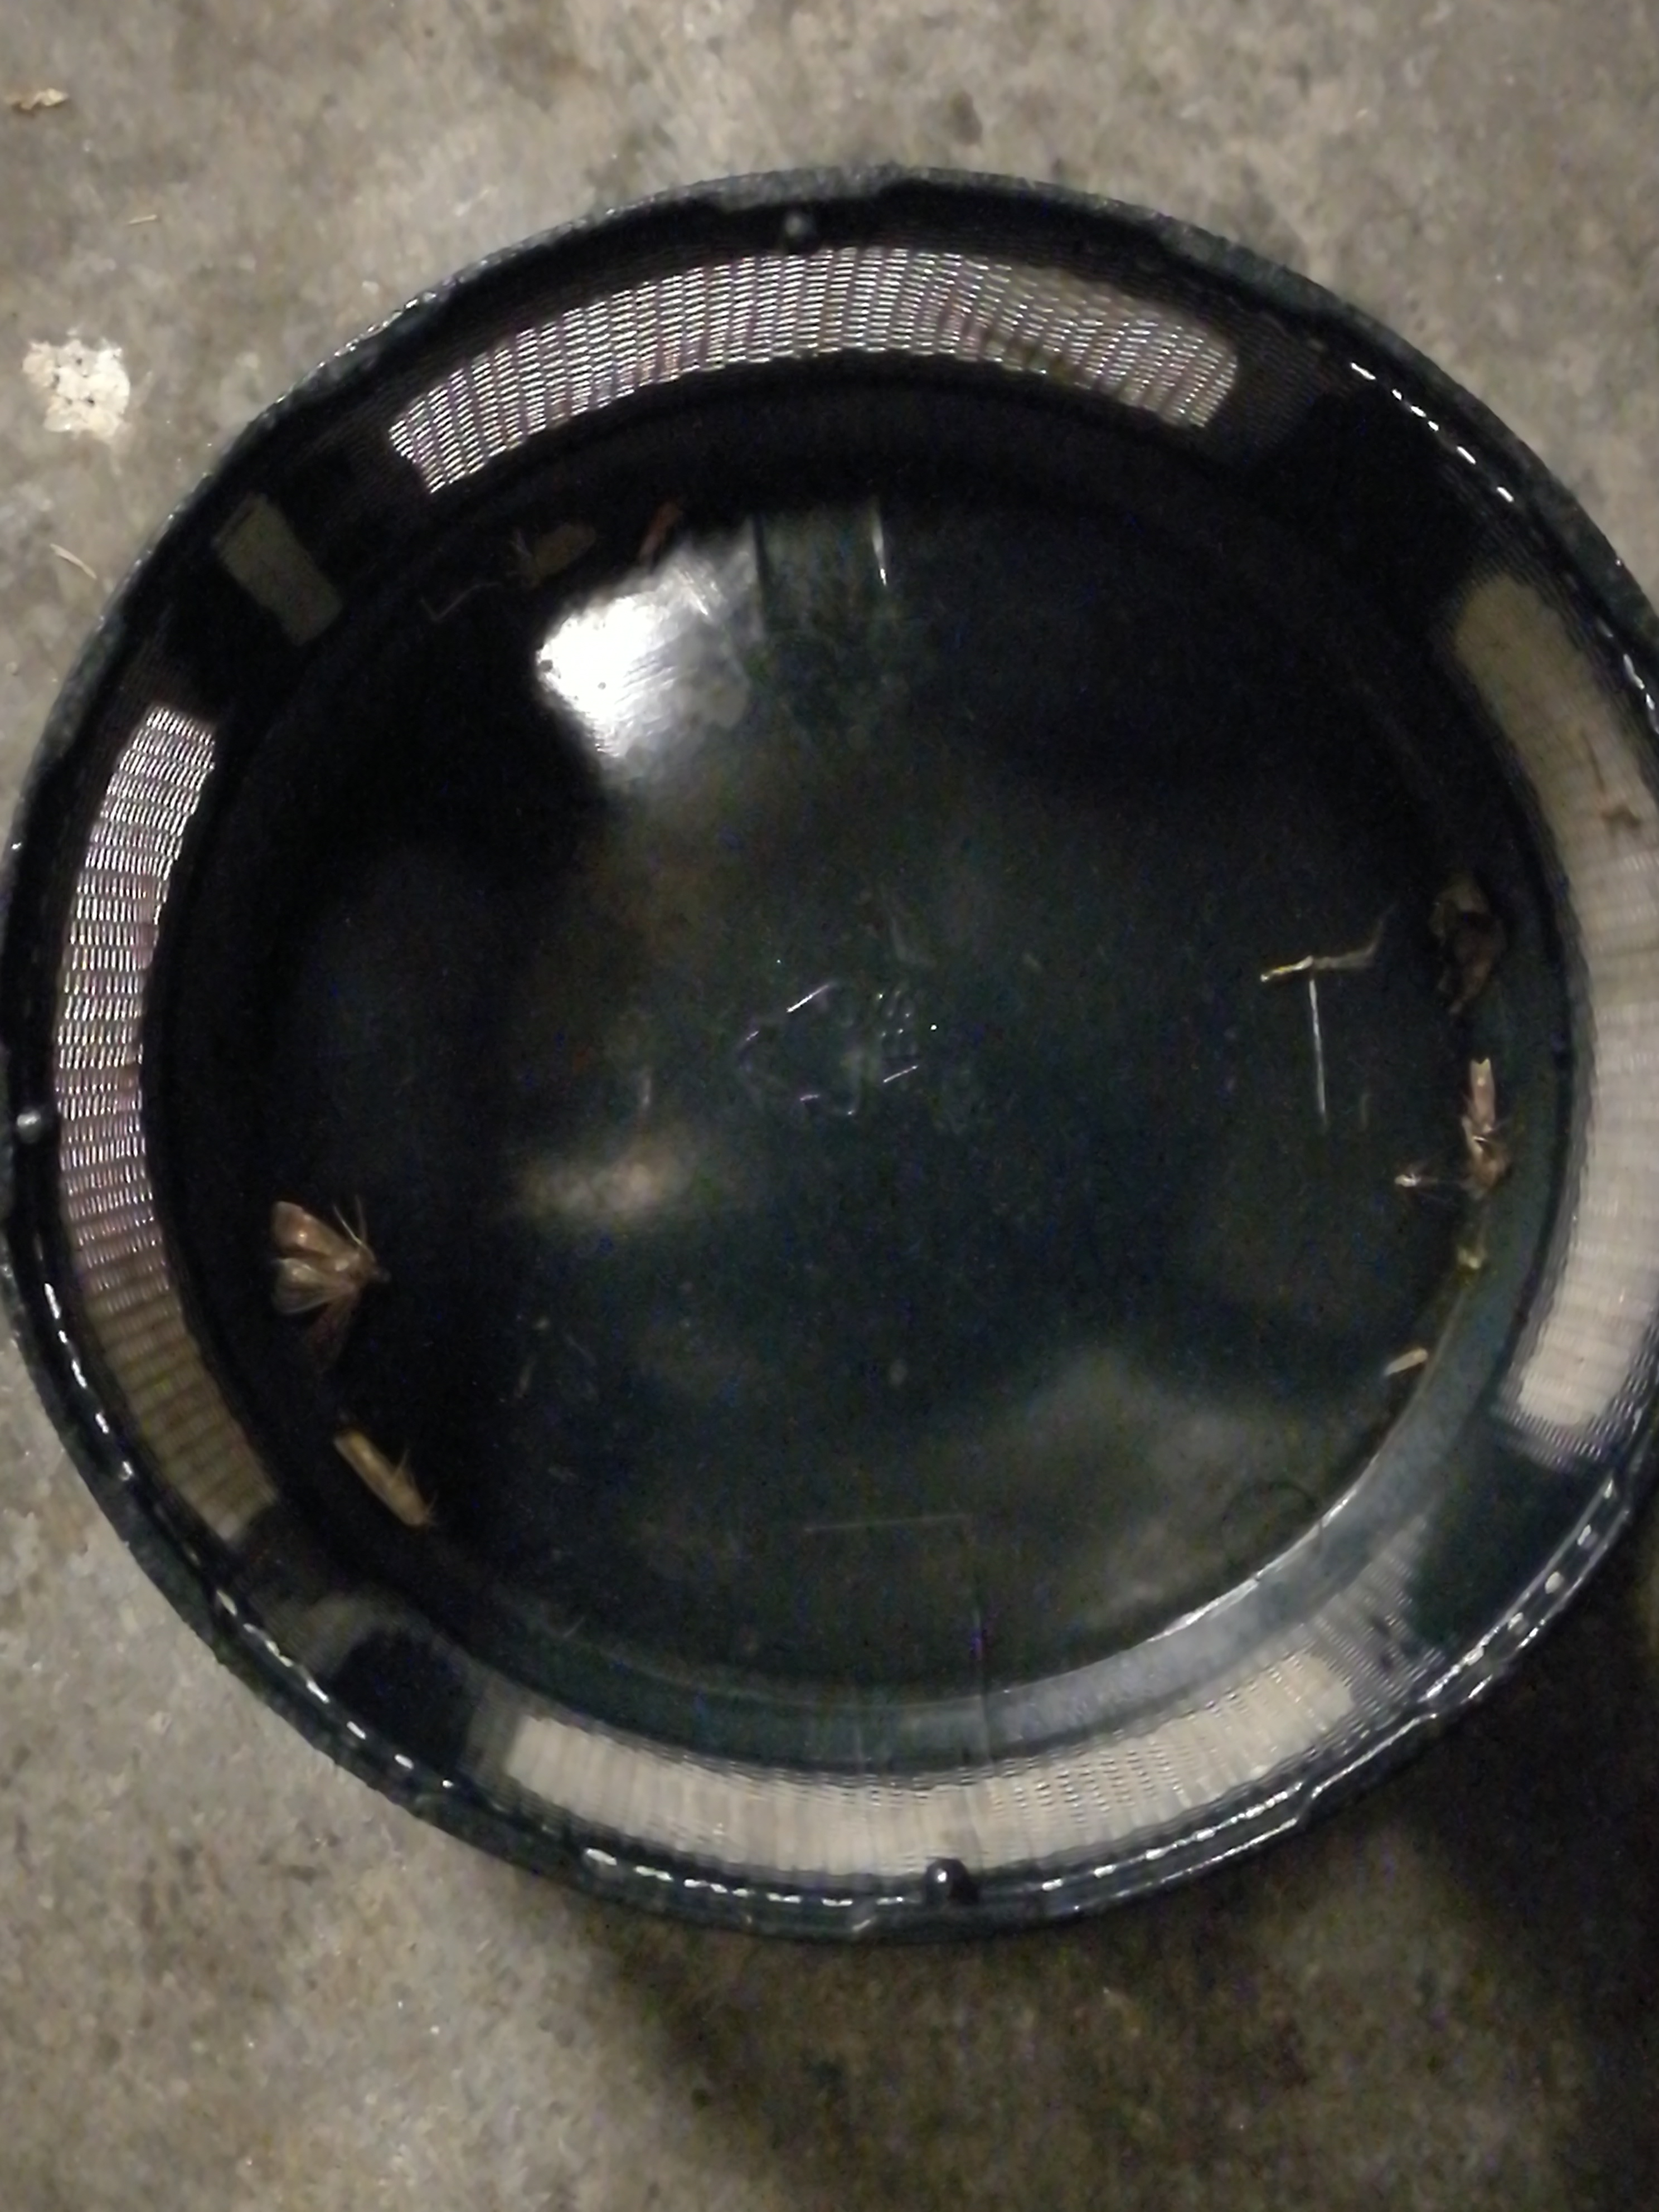mosquito: (333, 1430, 427, 1527), (641, 500, 688, 568), (1469, 1055, 1497, 1137)
moth: (270, 1200, 390, 1313), (512, 524, 598, 587)
